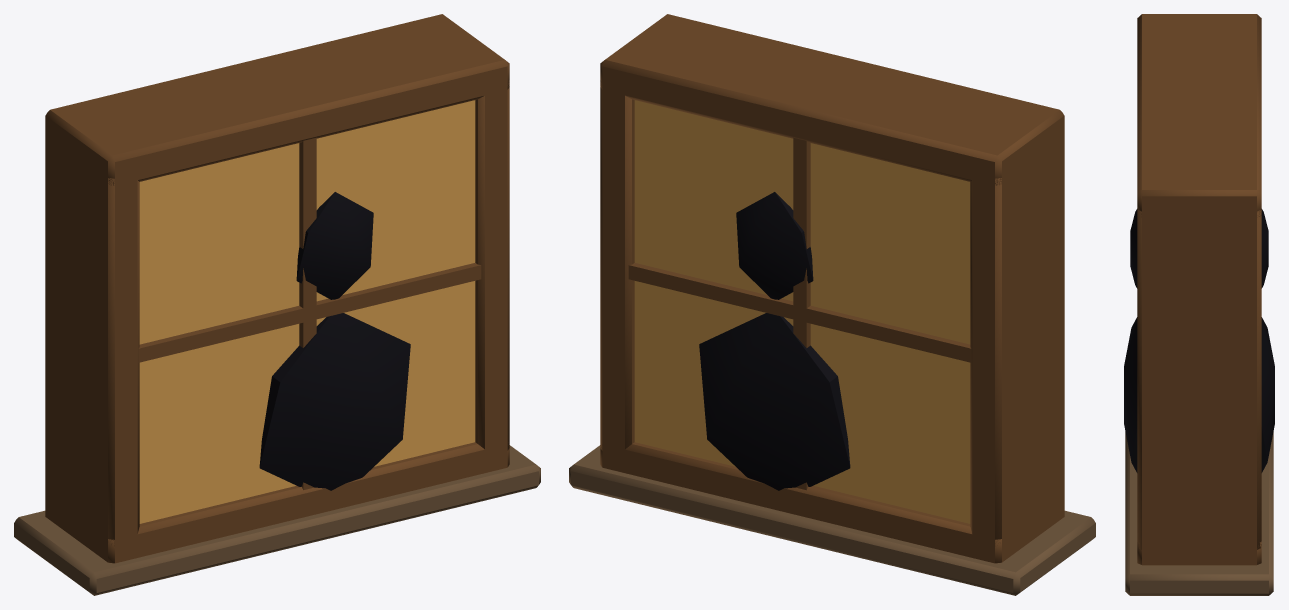
File: window_figure.glb
3 views of the same model, side by side, from view 1: azimuth 30°, elevation 25°; view 2: azimuth 150°, elevation 25°; view 3: azimuth 270°, elevation 25° (orthographic). The views are drawn at different scales.
Parts seen in each view (by area): view 1: window_figure; view 2: window_figure; view 3: window_figure.
Part boxes in pixels (x1,y1,x2,y2): window_figure: (14,14,540,595); window_figure: (569,14,1095,595); window_figure: (1124,14,1274,595).
Bounding box in the file's own units: 2 × 1.82 × 0.6295.
